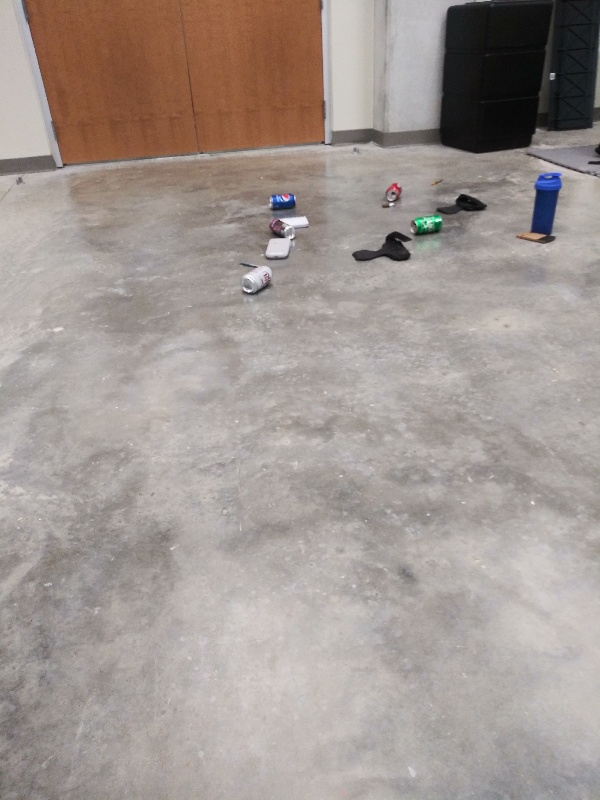can: (238, 264, 276, 297), (408, 214, 447, 236), (267, 216, 297, 239), (266, 193, 298, 211), (381, 182, 405, 203)
